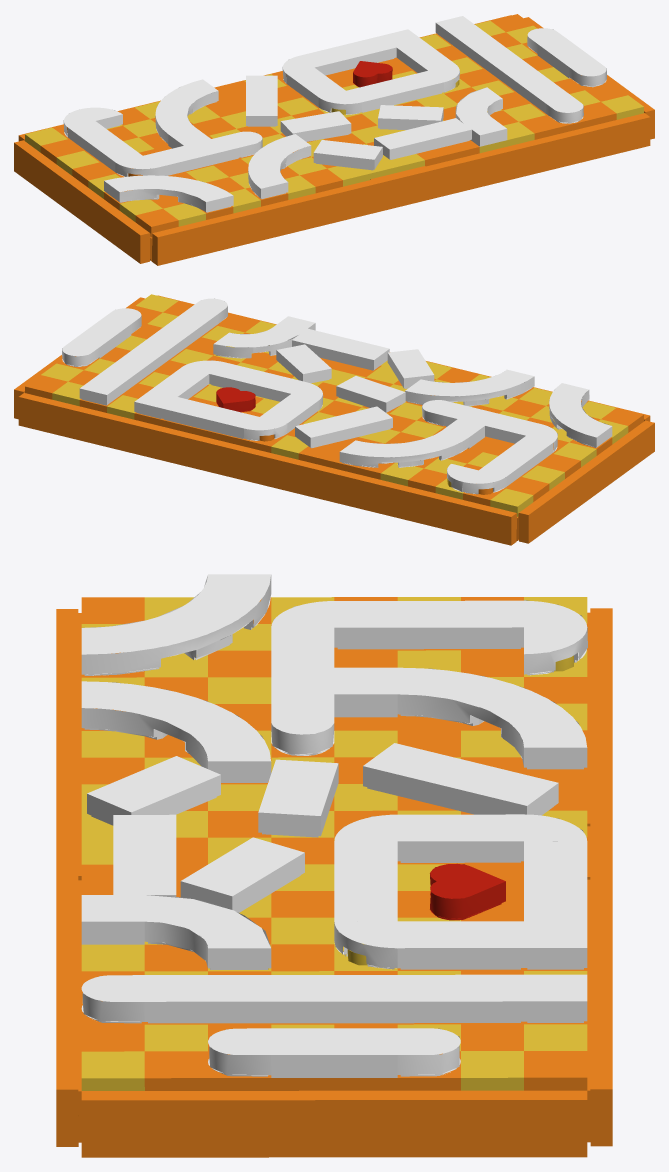
3 renders of one model, top to bottom at view 1: azimuth 30°, elevation 25°; view 2: azimuth 150°, elevation 25°; view 3: azimuth 270°, elevation 25°, orthographic. The views are drawn at different scales.
Visible parts, largest first — view 1: 临汾橙色; view 2: 临汾橙色; view 3: 临汾橙色.
Boxes of the visible parts, x1,y1,x2,y2 form: 临汾橙色: (14,14,654,265); 临汾橙色: (14,294,654,545); 临汾橙色: (56,574,612,1157).
Bounding box in the file's own units: 376 × 32.18 × 176.
